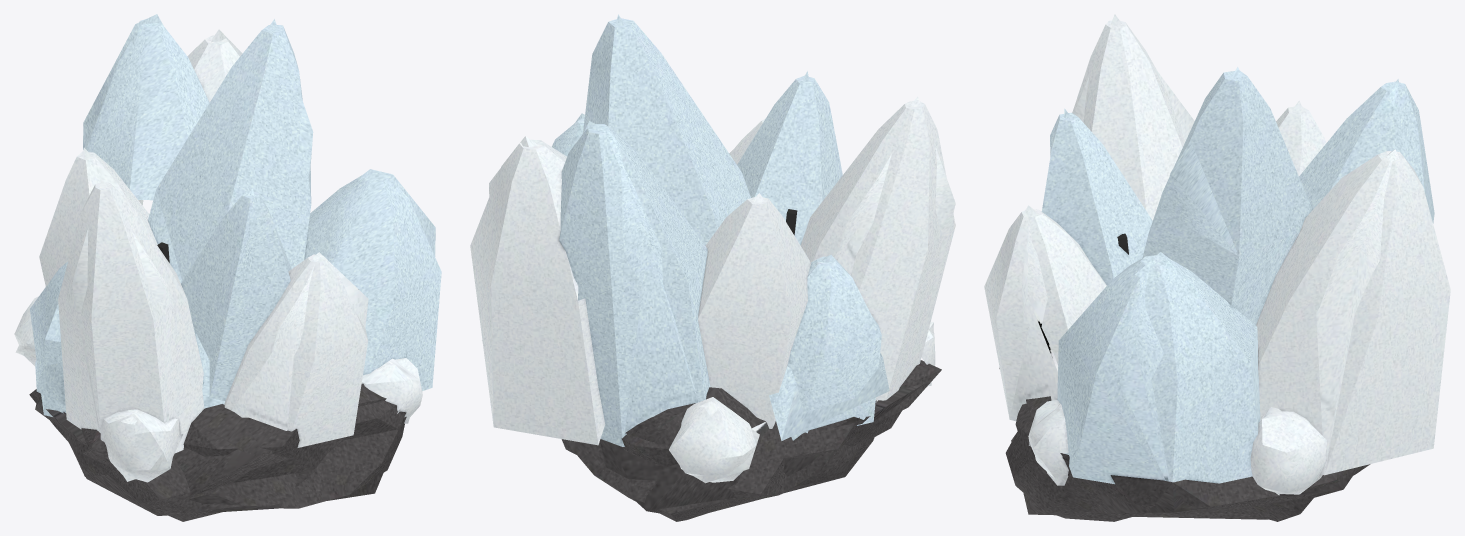
File: sd_prop_ice.glb
The picture shows the model from 3 angles, left to right: view 1: azimuth 30°, elevation 25°; view 2: azimuth 150°, elevation 25°; view 3: azimuth 270°, elevation 25°; orthographic projection. The views are drawn at different scales.
Parts seen in each view (by area): view 1: LOD0_body, LOD1_body; view 2: LOD0_body, LOD1_body; view 3: LOD0_body, LOD1_body.
Part boxes in pixels (bbox=[...]): LOD0_body: bbox=[14, 19, 441, 521]; LOD1_body: bbox=[15, 14, 435, 515]; LOD0_body: bbox=[470, 18, 955, 521]; LOD1_body: bbox=[482, 14, 955, 513]; LOD0_body: bbox=[984, 20, 1450, 521]; LOD1_body: bbox=[1009, 14, 1398, 519].
Size of the model in its own units: 0.9428 by 1.02 by 0.919.
1 material, 1 textured.
